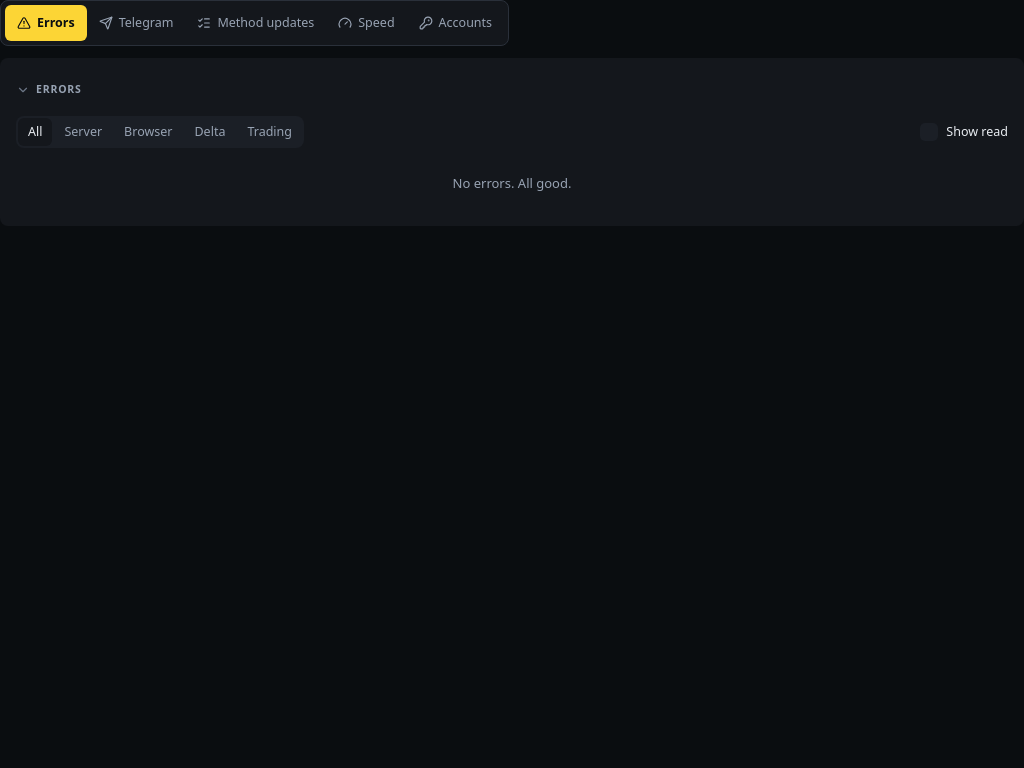
Test: the Logs screen › [critical] Speed shows what the desk counted: the quota used, 429s, Delta's answer time, the pass over the open trades and the signal run
The image size is (1024, 768).
Click the tab "Speed".
click(366, 23)  # box [326,5,406,41]
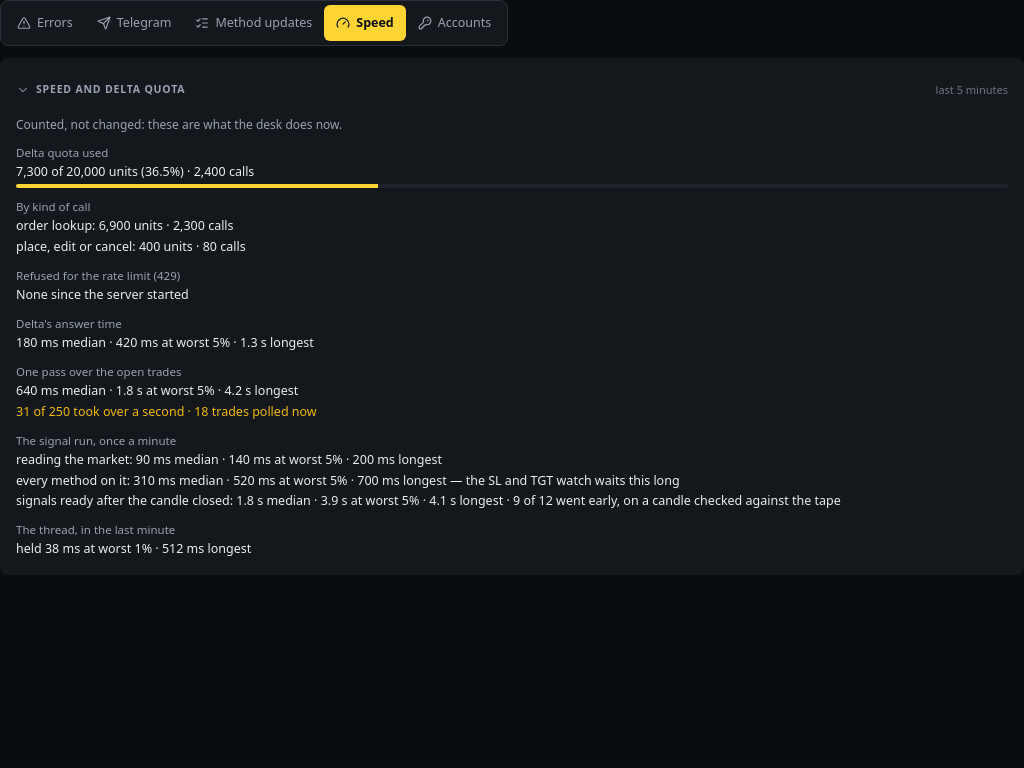
Now the text named "quota used" reads "7,300 of 20,000 units (36.5%) · 2,400 calls", box [16,163,254,180]
Now the text "order lookup: 6,900 units · 2,300 calls" is shown, box [16,217,234,234]
Now the text named "rate limited" reads "None since the server started", box [16,286,189,303]
